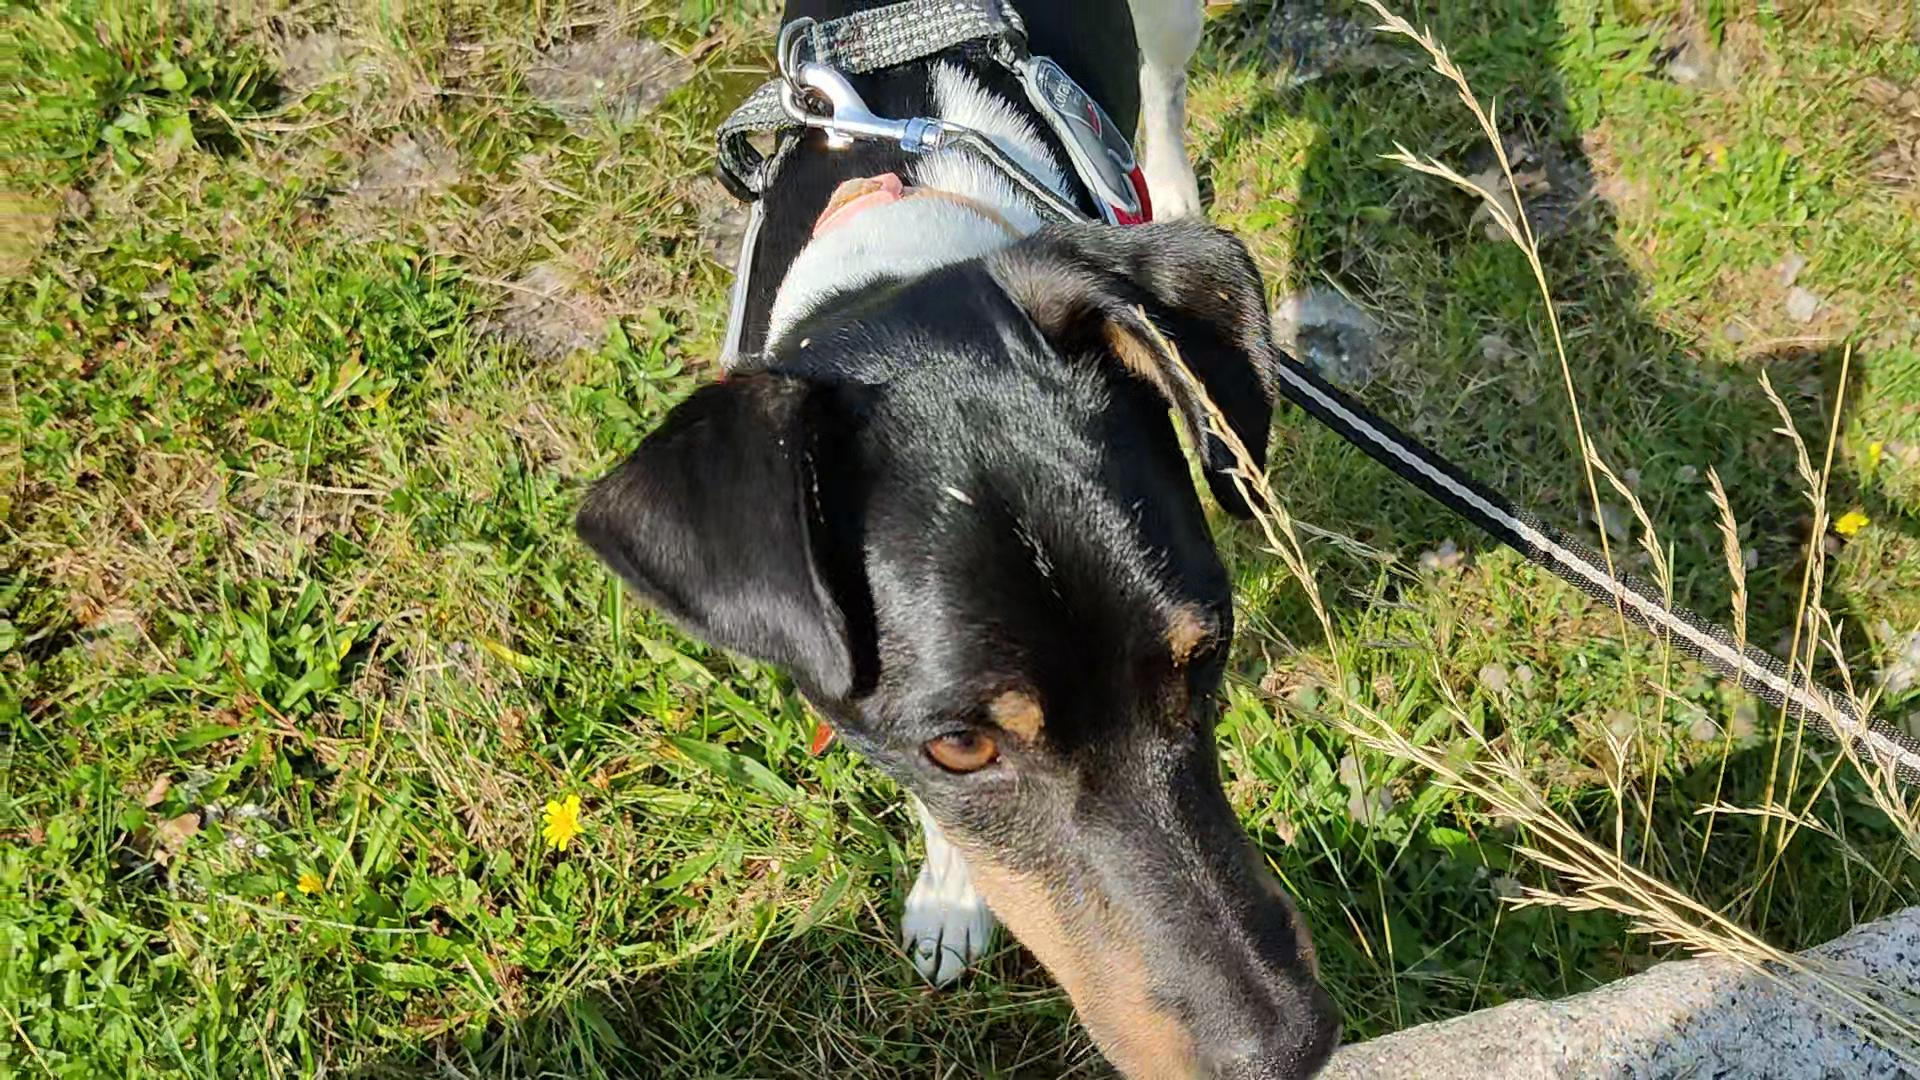Dog: (560, 0, 1418, 1079)
